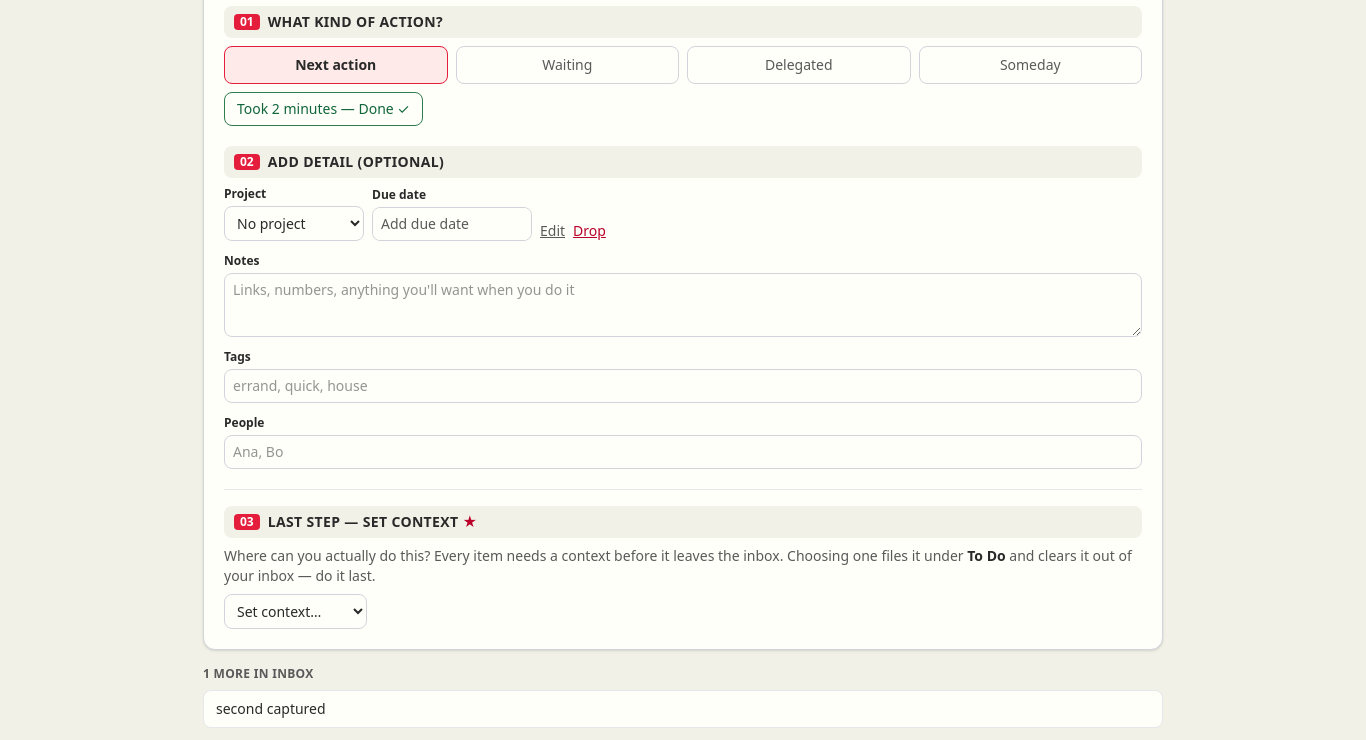
Scenario: InboxPage triage selection › advances to the next item once one is filed
This screenshot has width=1366, height=740.
(page scrolled)
Click the button "second captured" at (271, 708), box [203,690,1163,728]
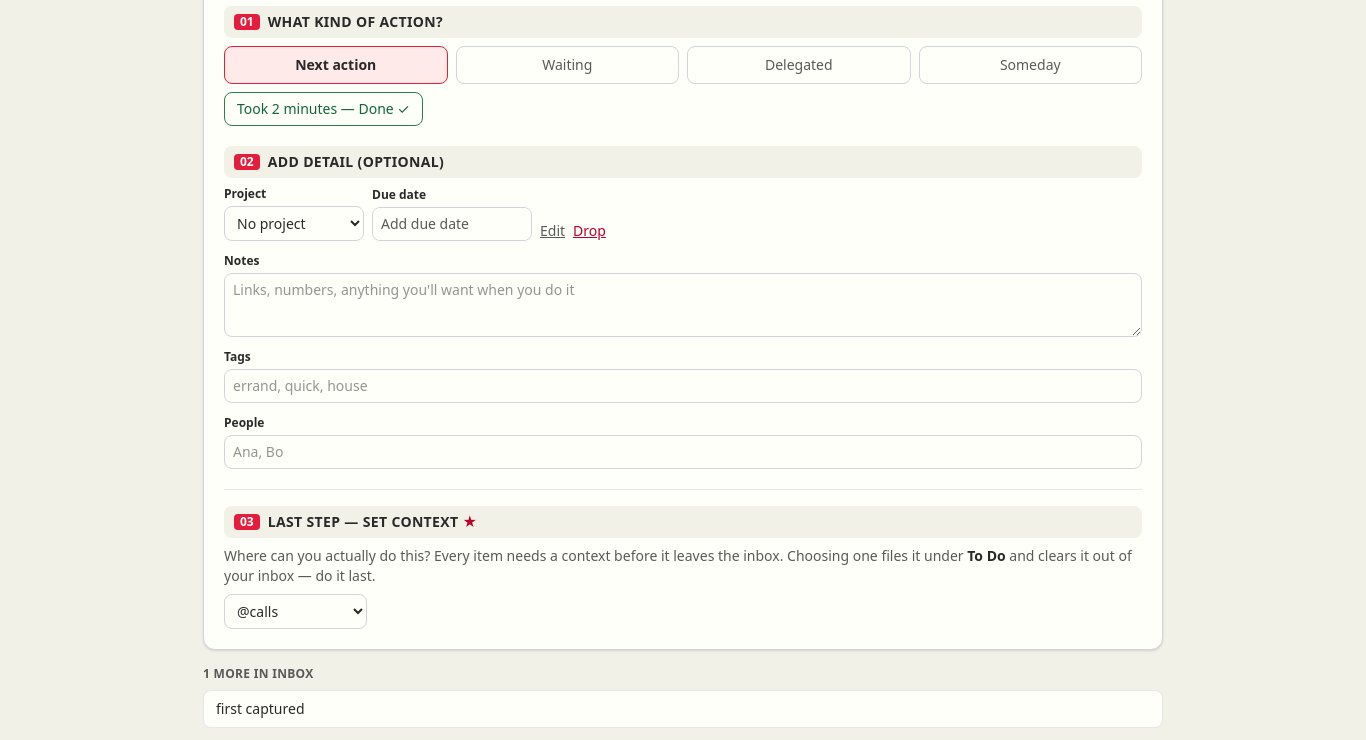
Select "@calls" in the dropdown named "Set context and file this todo" at (296, 612), box [224,594,367,629]
(page scrolled)
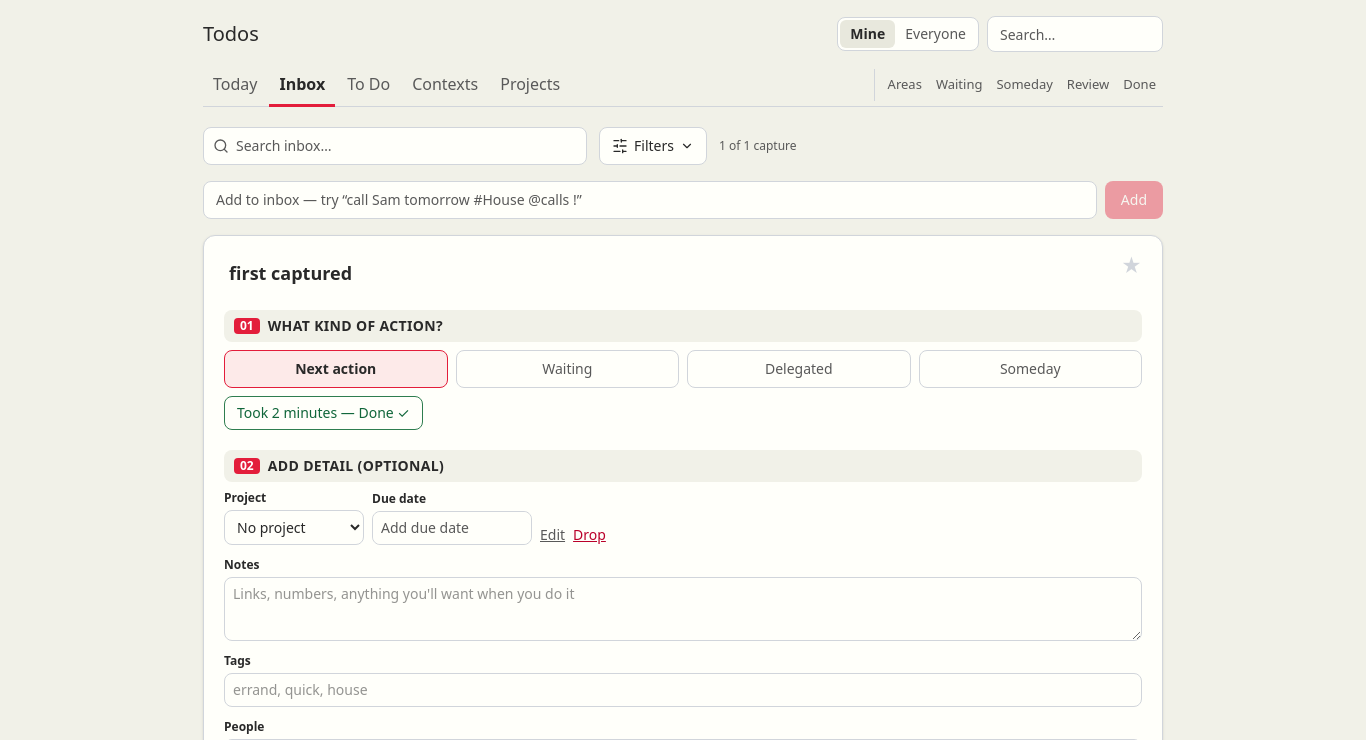
Expected: the button titled "Click to rename" reads "first captured", [224,256,357,290]
